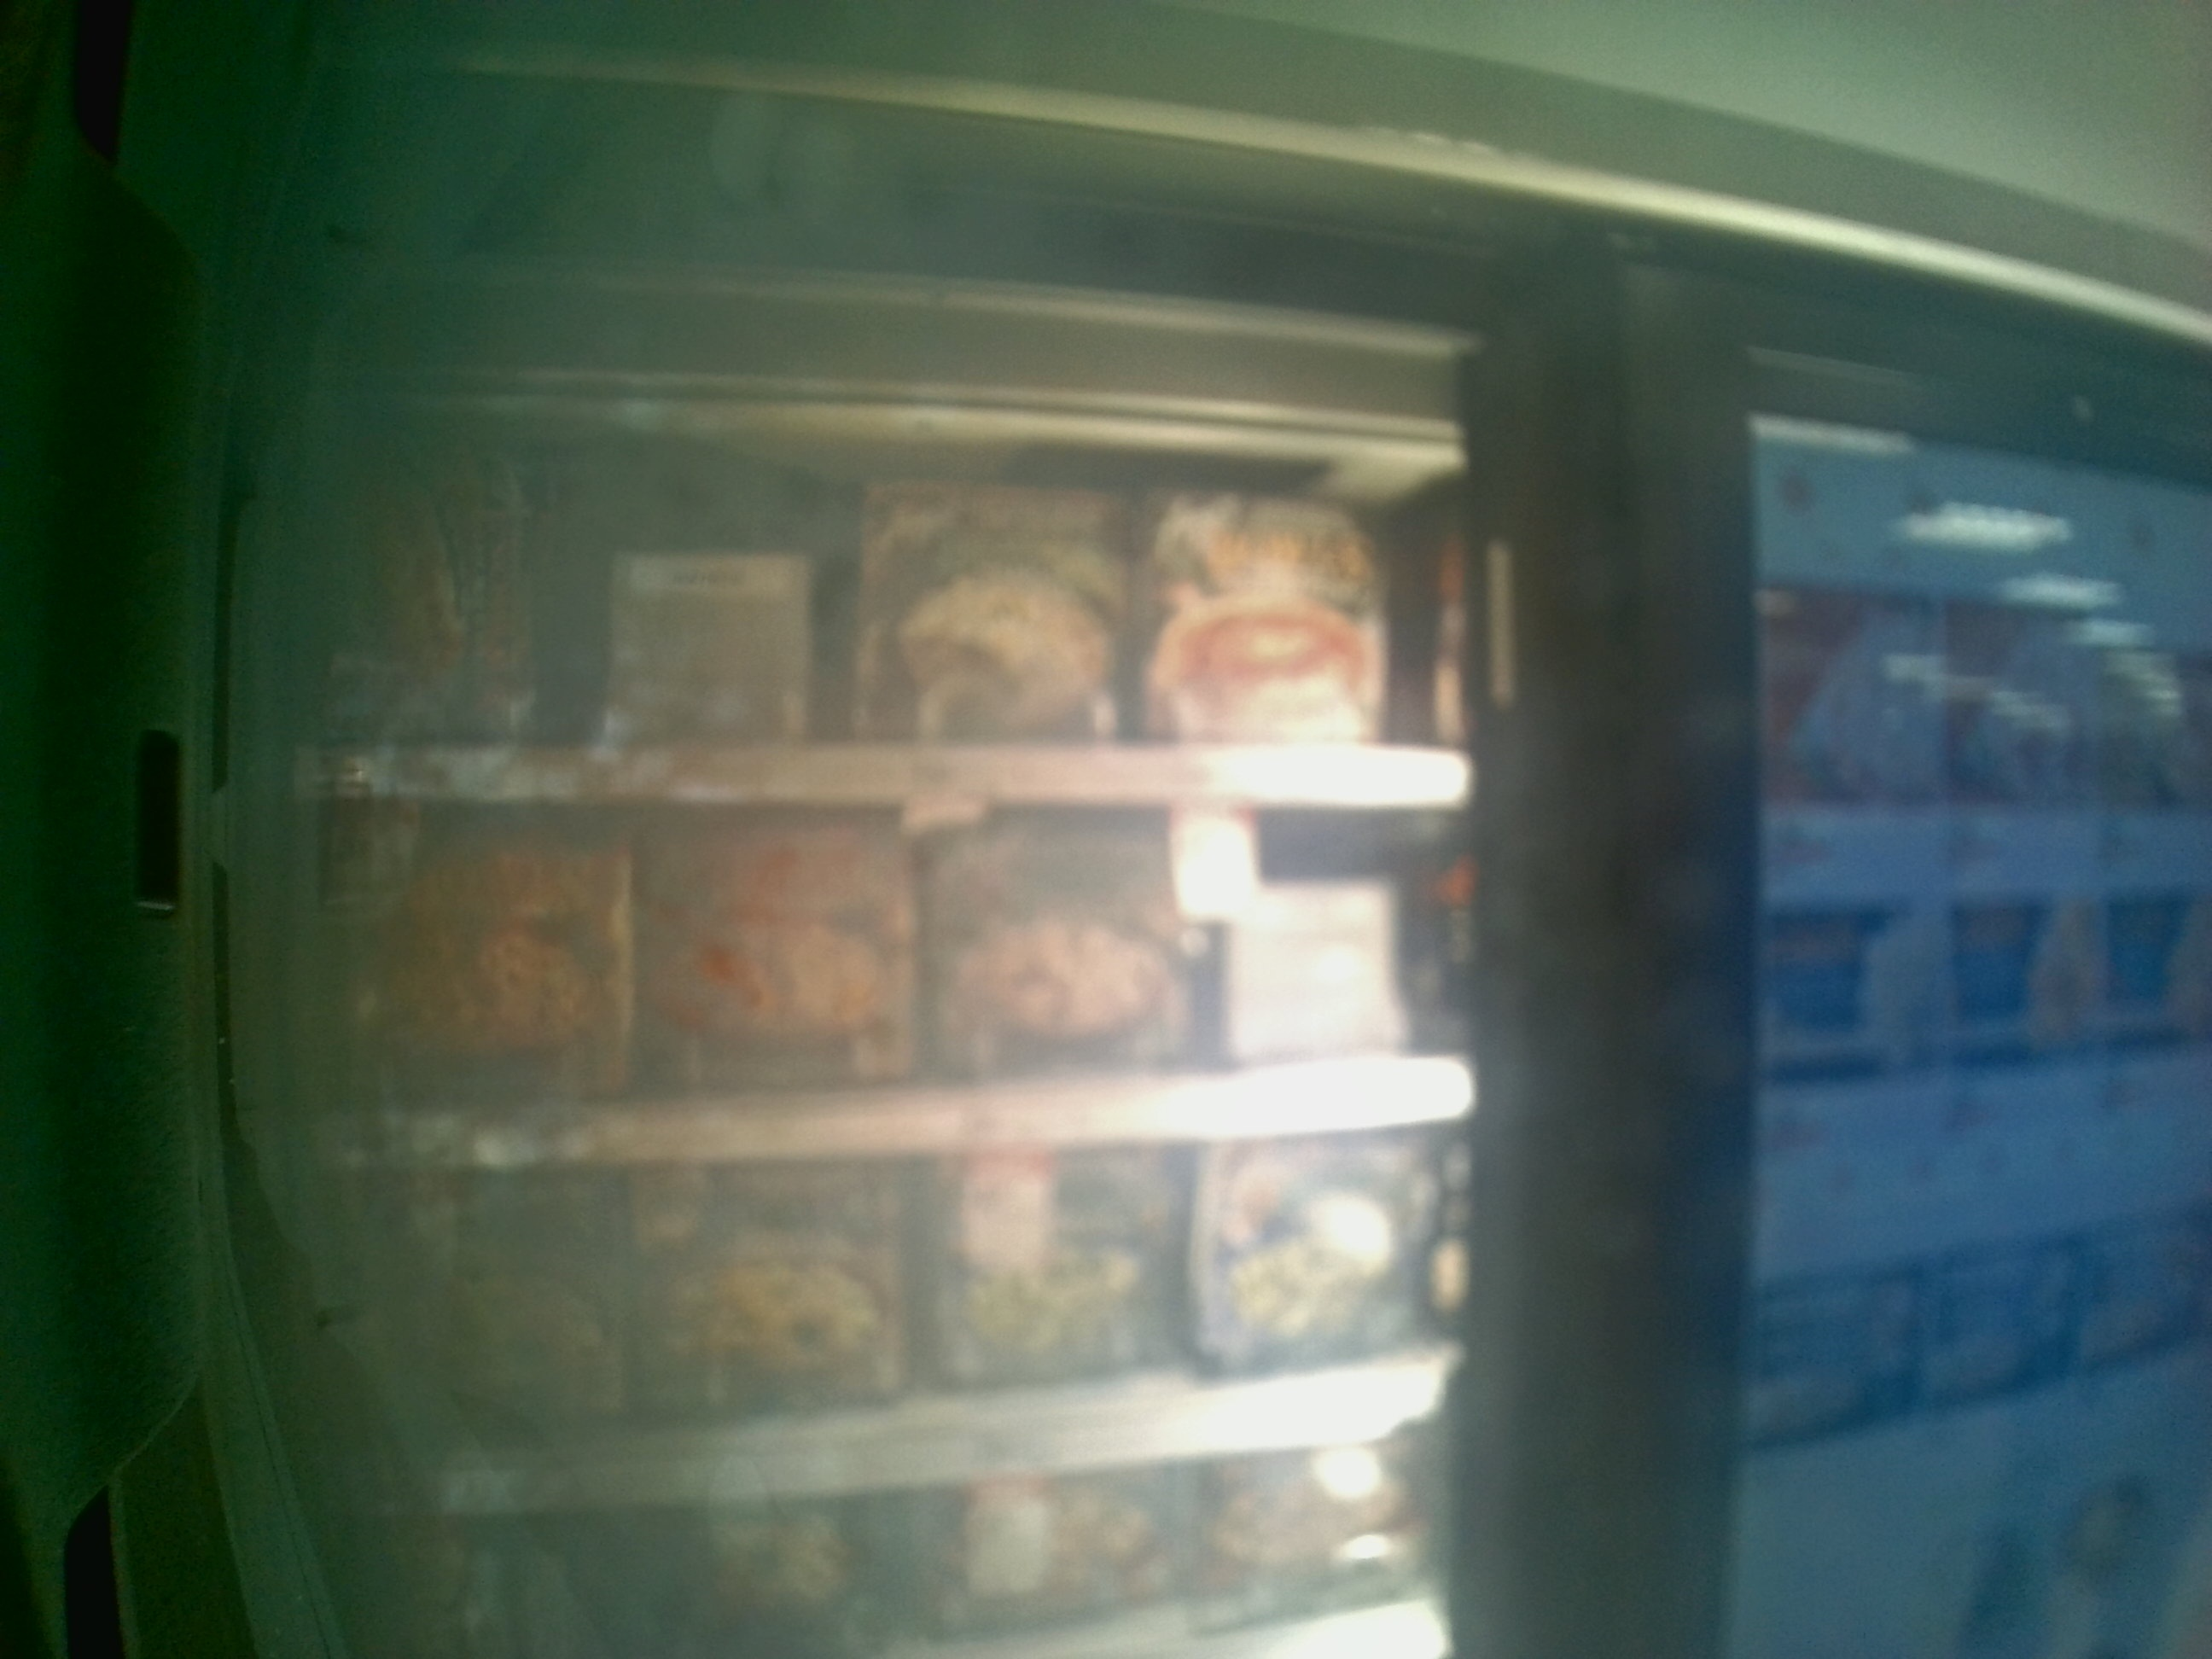frozen-food-shelf: (275, 443, 1480, 817), (273, 819, 1460, 1183)
